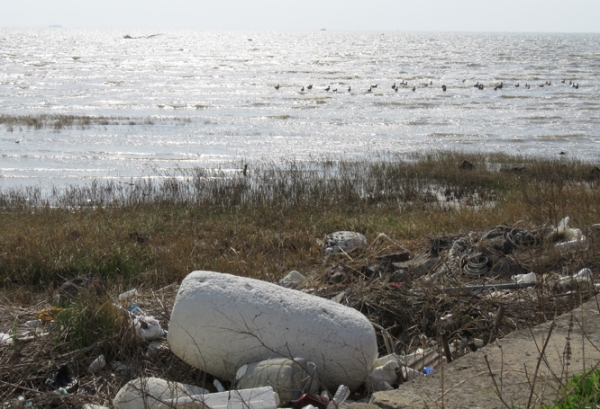buoy: (167, 264, 376, 398)
